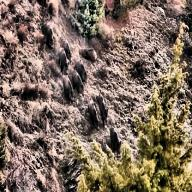boar: (63, 74, 77, 100), (74, 70, 88, 92), (99, 92, 109, 120), (110, 129, 122, 152), (90, 97, 100, 122), (57, 48, 71, 64), (42, 23, 54, 41)
